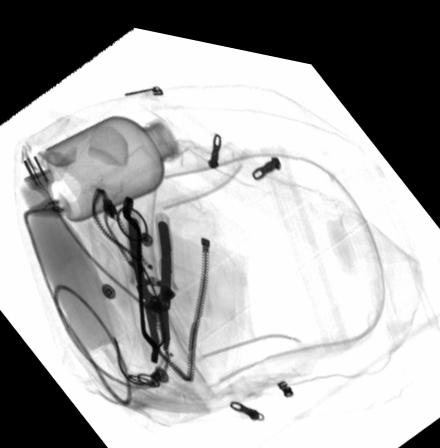Pliers: (123, 205, 175, 348)
Wrench: (119, 187, 158, 359)
